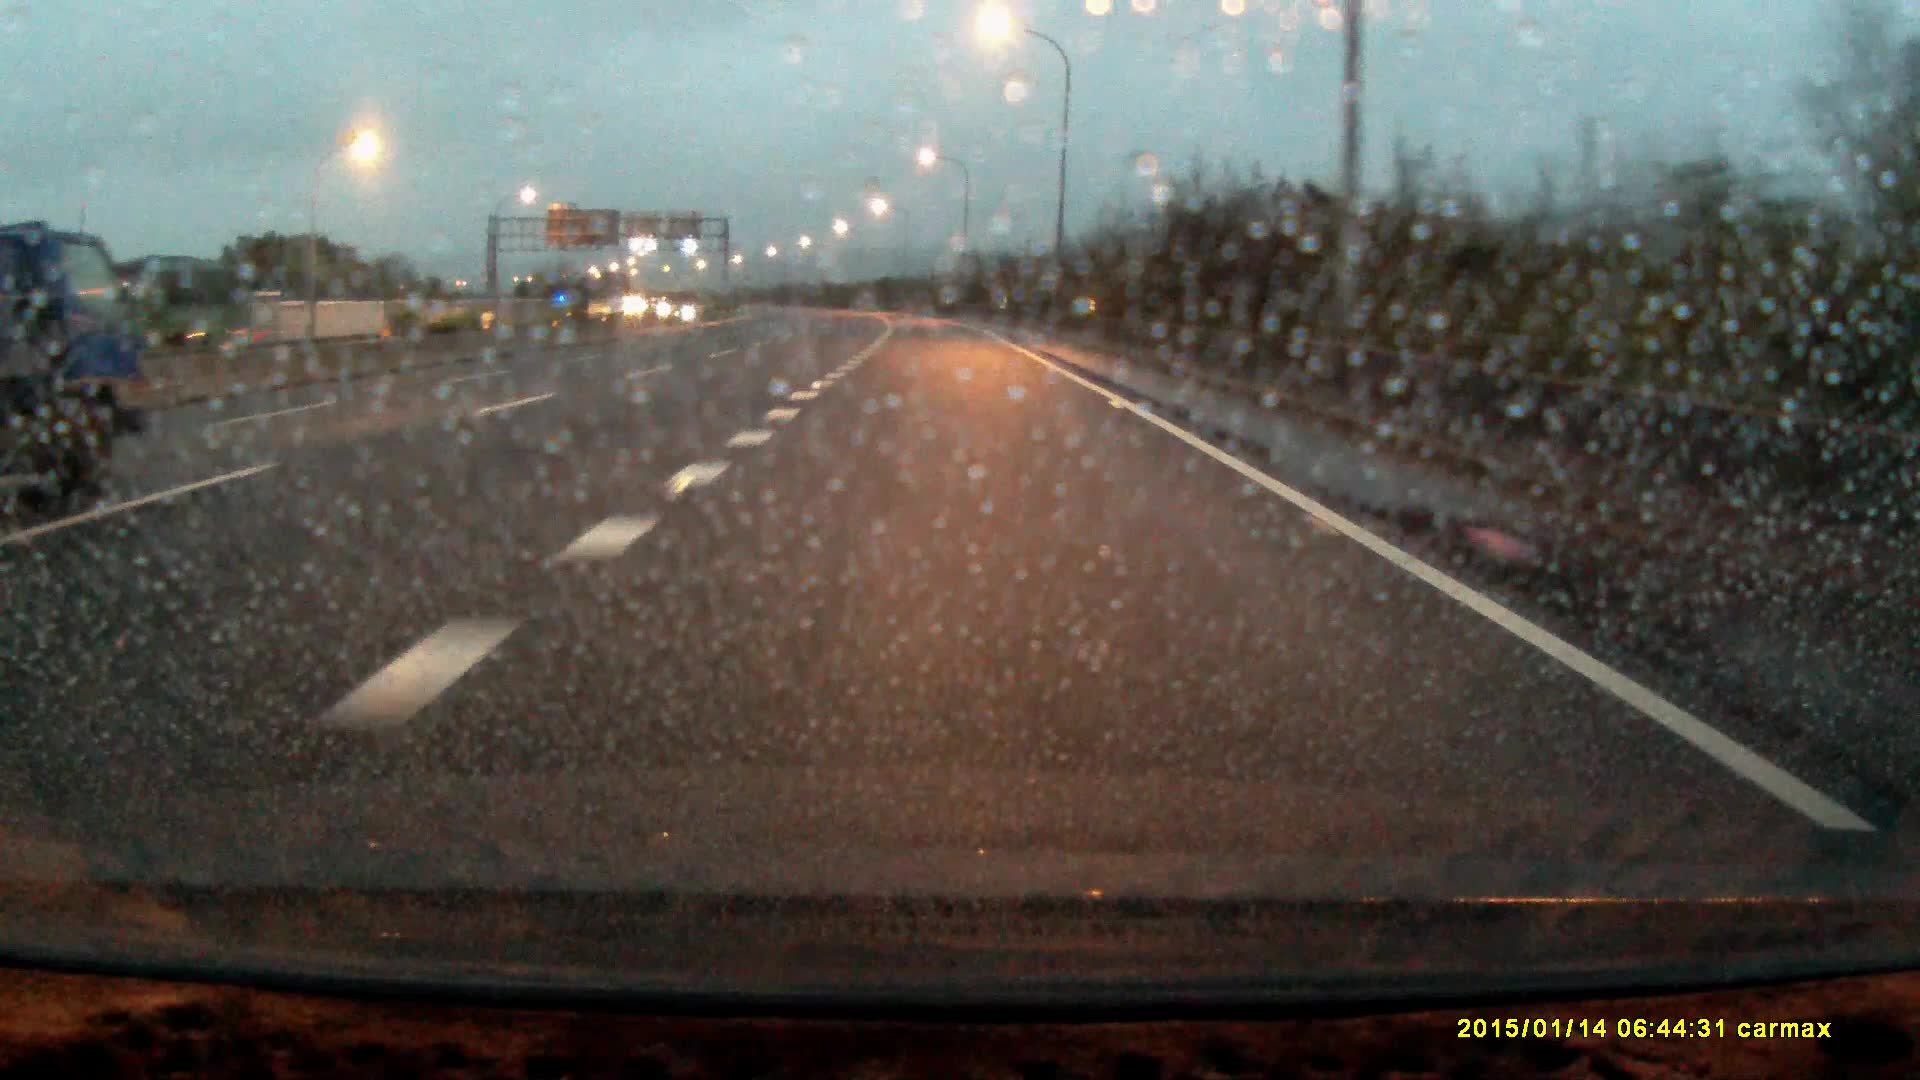vehicle: (1, 218, 156, 525), (125, 256, 260, 356)
